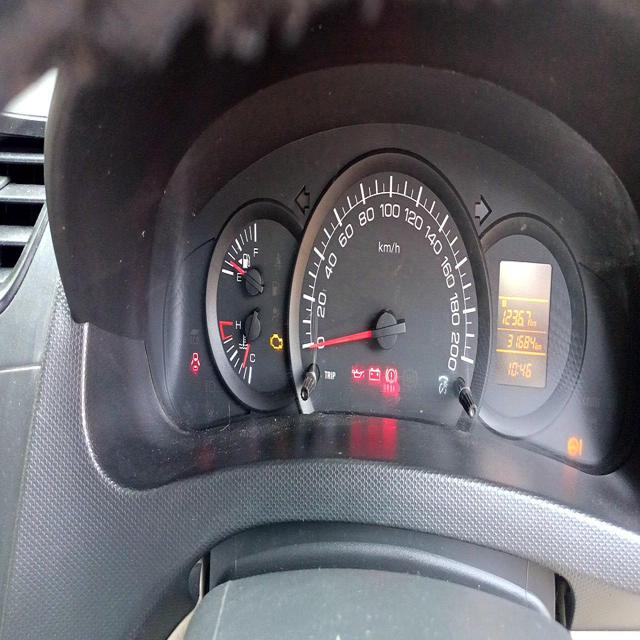odometer: (504, 331, 536, 352)
